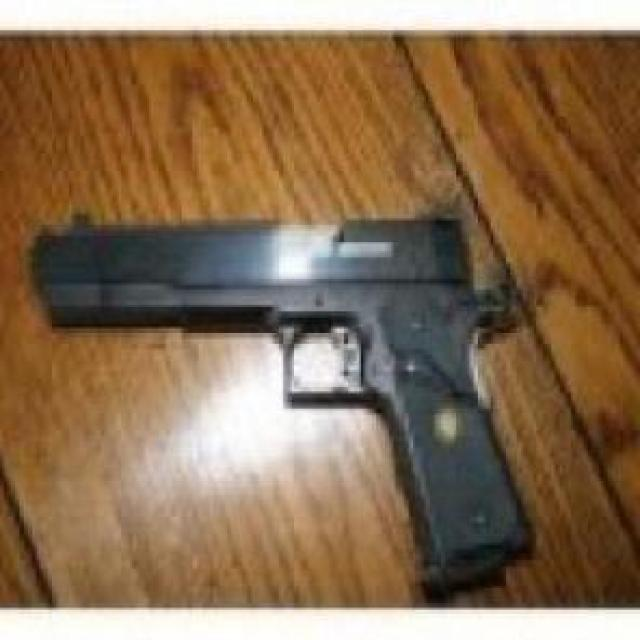pistol: (28, 203, 543, 598)
